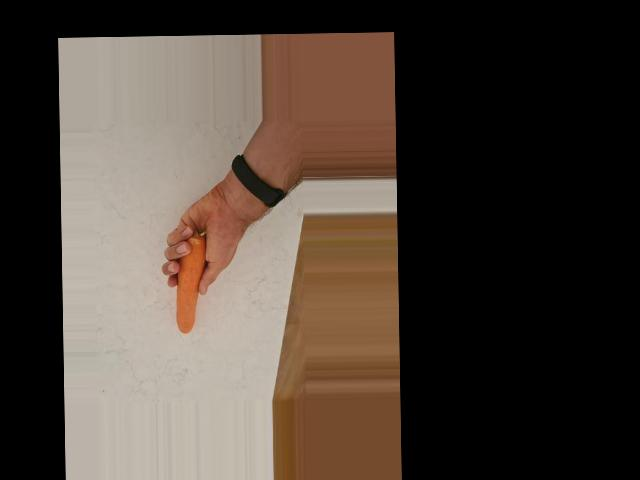carrot: (173, 232, 210, 333)
